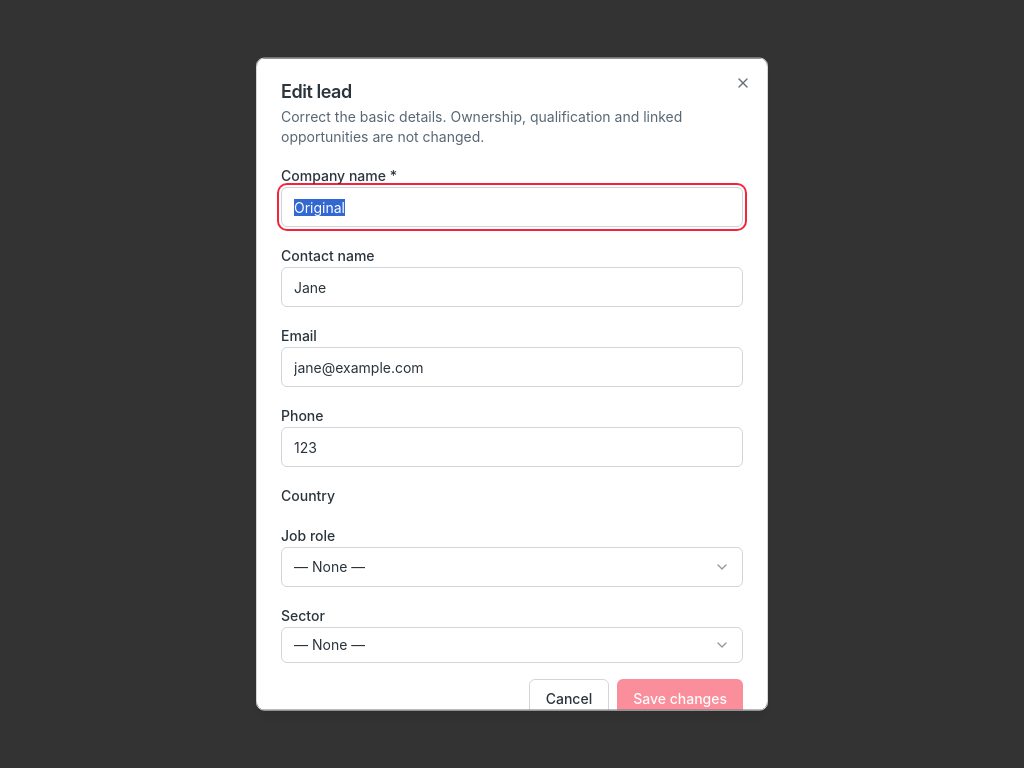
Scenario: Edit lead details › retains the draft after a failed save
Replace the text in the field labelled "Contact name" with "New name". click: (512, 287)
box: left=281, top=267, right=743, bottom=307
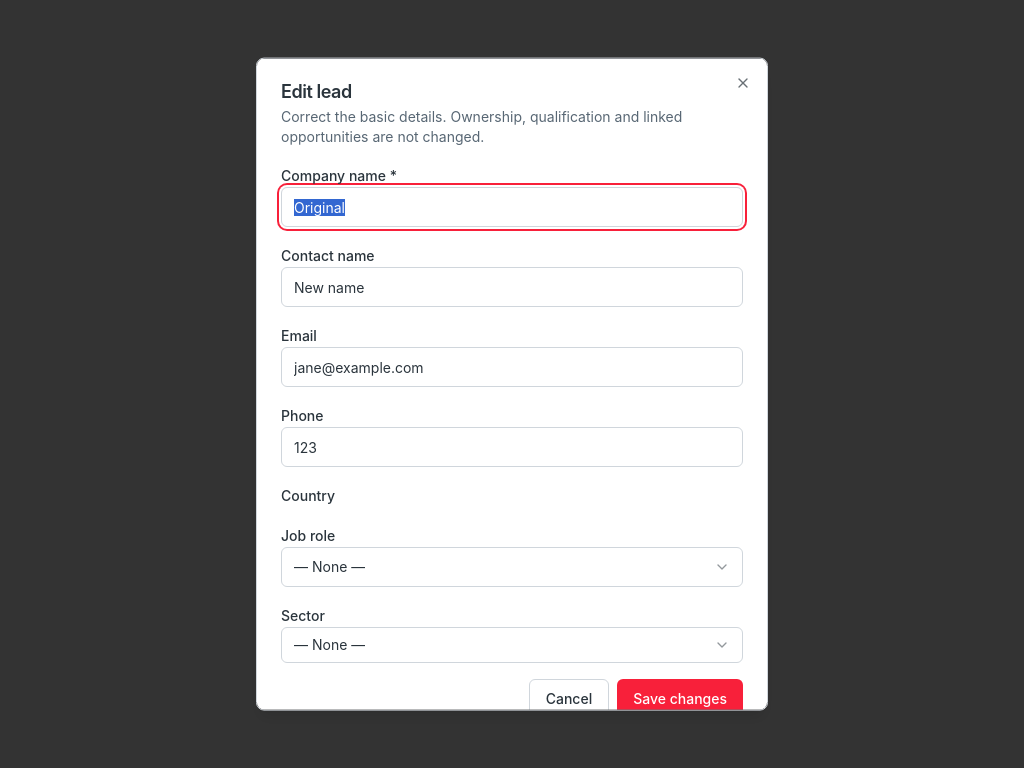
Click the button "Save changes". click: click(680, 699)
box: left=617, top=679, right=743, bottom=719
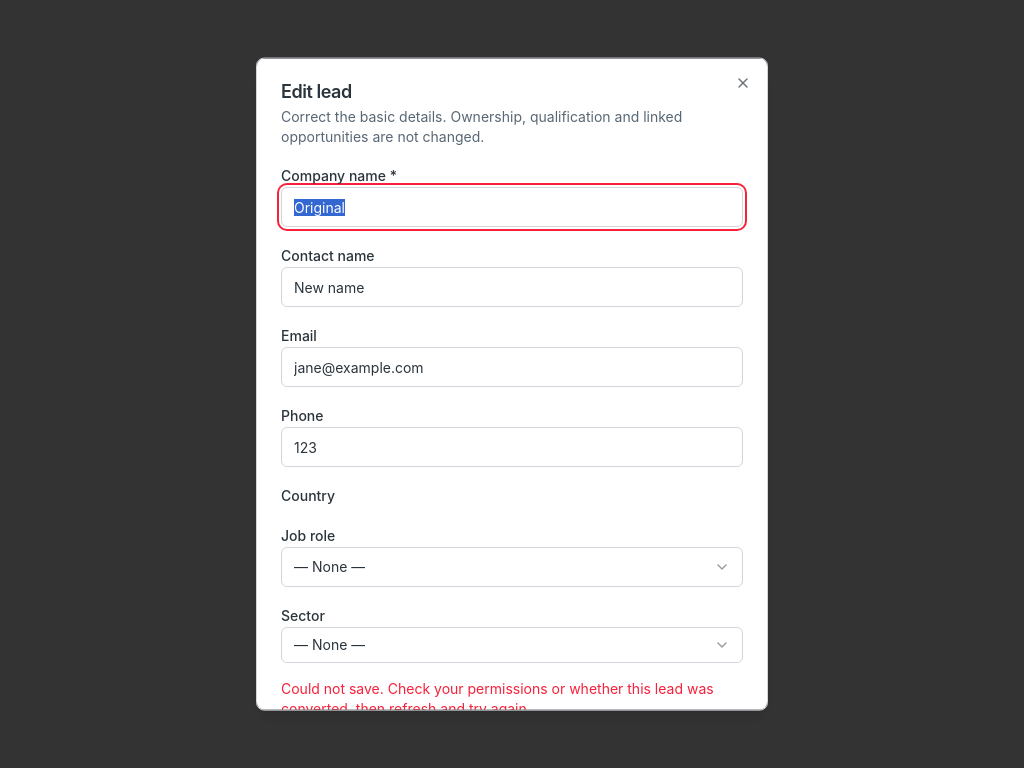
Check: the message shows "Could not save", box left=281, top=680, right=714, bottom=710
